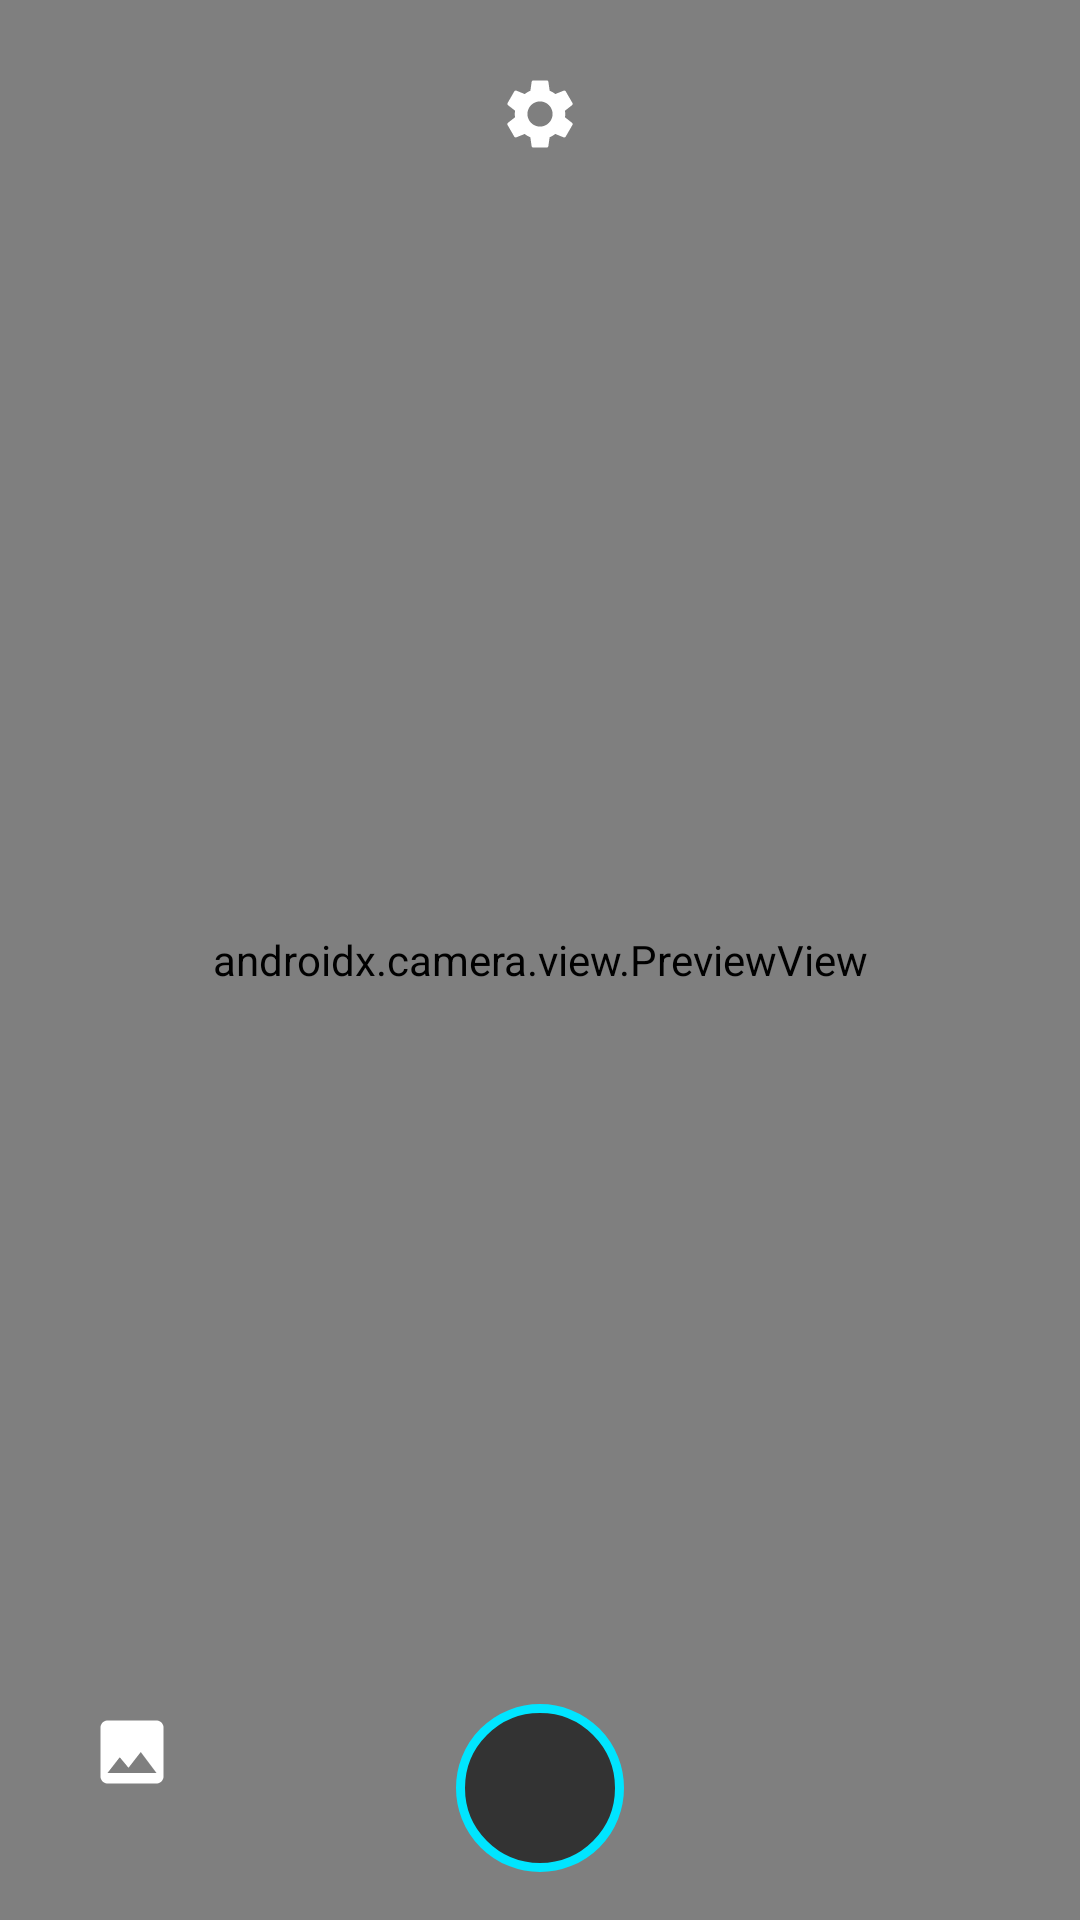

Icons on this 1080*1920 Android screen, each with the point to tap as (x=x, y=y):
Gallery: (x=132, y=1752)
Settings: (x=540, y=114)
